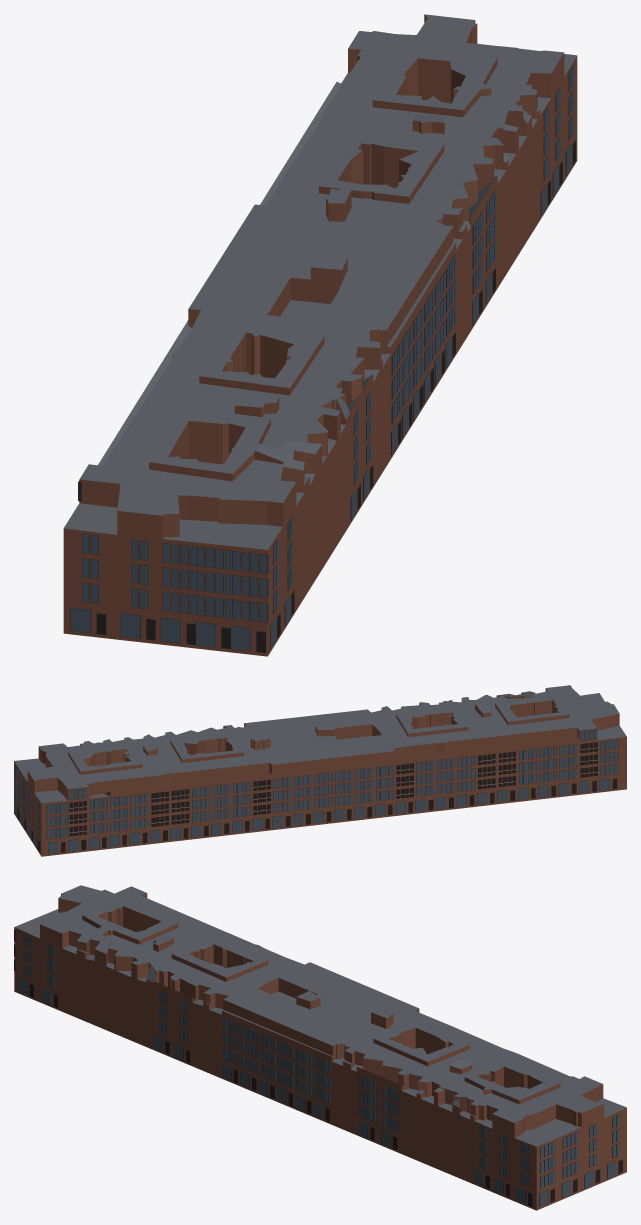
File: blankenstraat-15.glb
The picture shows the model from 3 angles, top to bottom: view 1: azimuth 30°, elevation 25°; view 2: azimuth 150°, elevation 25°; view 3: azimuth 270°, elevation 25°; orthographic projection. The views are drawn at different scales.
Visible parts, largest first — view 1: blankenstraat-15; view 2: blankenstraat-15; view 3: blankenstraat-15.
Boxes of the visible parts, <box> form: blankenstraat-15: <box>63,14,577,656</box>; blankenstraat-15: <box>14,685,626,856</box>; blankenstraat-15: <box>14,885,626,1210</box>.
Bounding box in the file's own units: 114 × 18.41 × 115.
